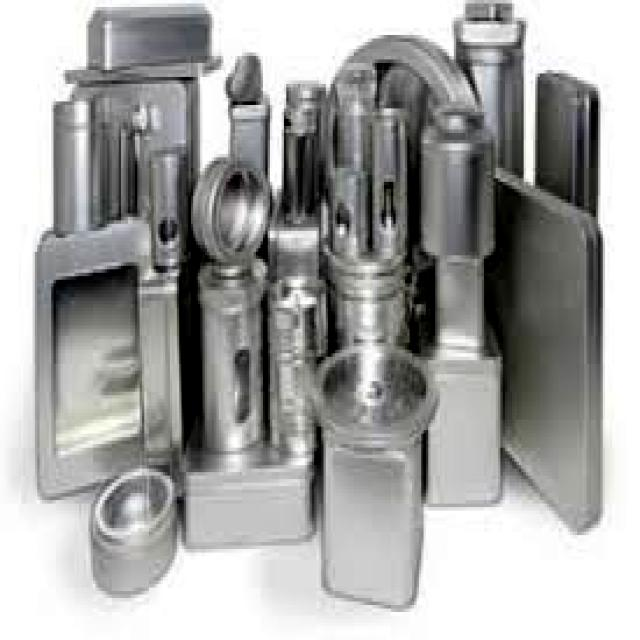Metal: (496, 162, 604, 538), (314, 341, 428, 608), (423, 335, 506, 505), (417, 105, 498, 256), (84, 2, 222, 75), (137, 263, 186, 462)
